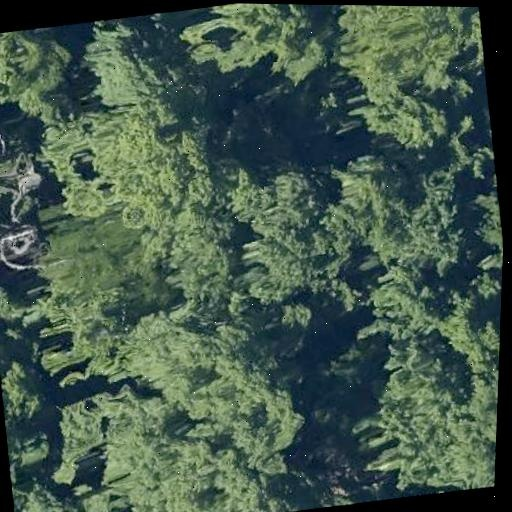tree-top: (30, 86, 222, 241), (341, 320, 500, 504), (324, 5, 488, 157), (227, 149, 363, 330), (128, 294, 298, 436), (335, 148, 471, 288), (170, 3, 336, 97), (112, 425, 271, 512), (28, 277, 141, 394), (146, 203, 247, 314), (53, 204, 161, 304), (80, 13, 182, 116), (0, 23, 83, 131), (358, 260, 442, 351), (10, 471, 92, 512), (0, 354, 48, 424)
